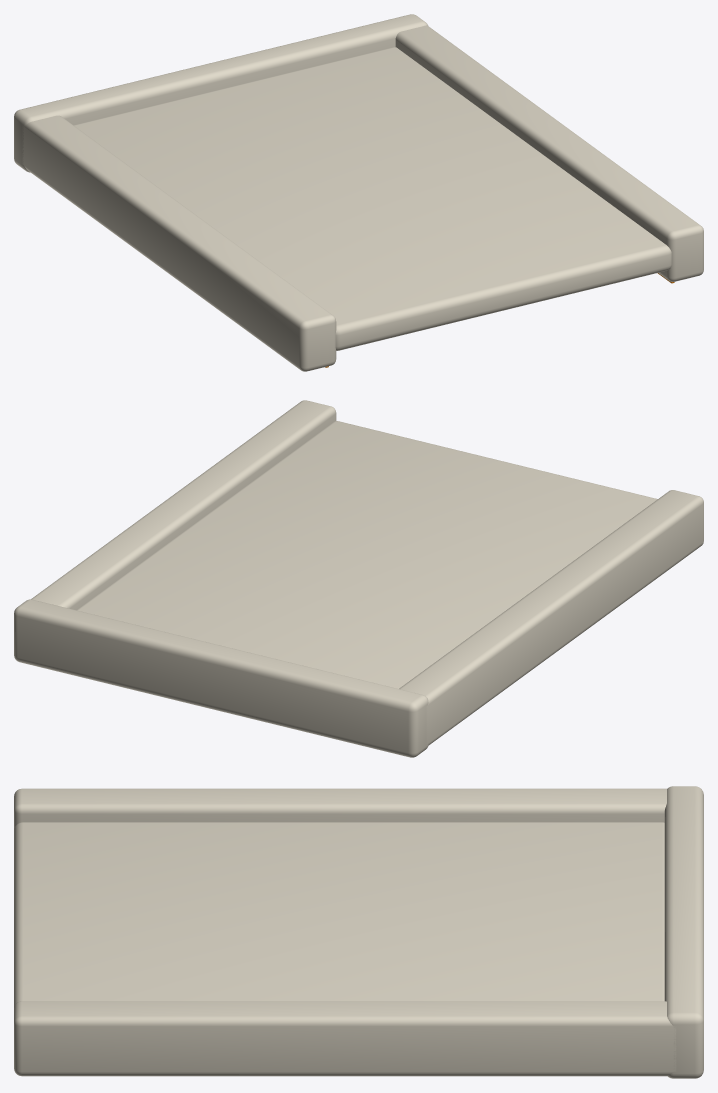
The model's file is RoomDoor_Premium.fbx.
3 views of the same model, one above another, from view 1: azimuth 30°, elevation 25°; view 2: azimuth 150°, elevation 25°; view 3: azimuth 270°, elevation 25° (orthographic). The views are drawn at different scales.
Parts seen in each view (by area): view 1: RoomDoor_Premium; view 2: RoomDoor_Premium; view 3: RoomDoor_Premium.
Part boxes in pixels (bbox=[...]): RoomDoor_Premium: bbox=[14, 14, 703, 371]; RoomDoor_Premium: bbox=[14, 400, 703, 757]; RoomDoor_Premium: bbox=[14, 786, 703, 1078].
Size of the model in its own units: 1.68 by 0.2555 by 2.1.
